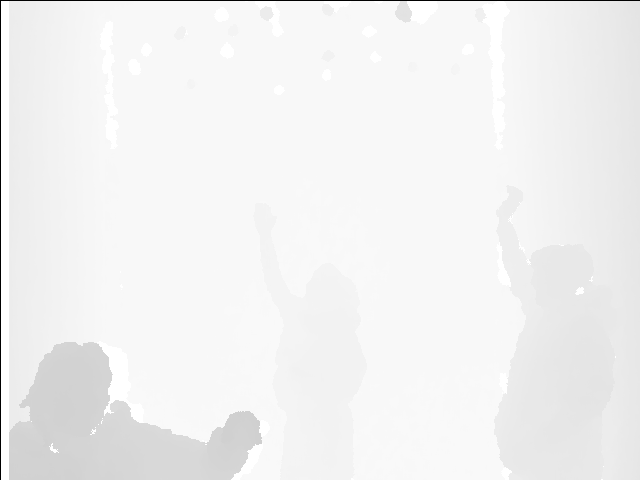hand: (492, 186, 532, 228), (252, 199, 280, 241)
